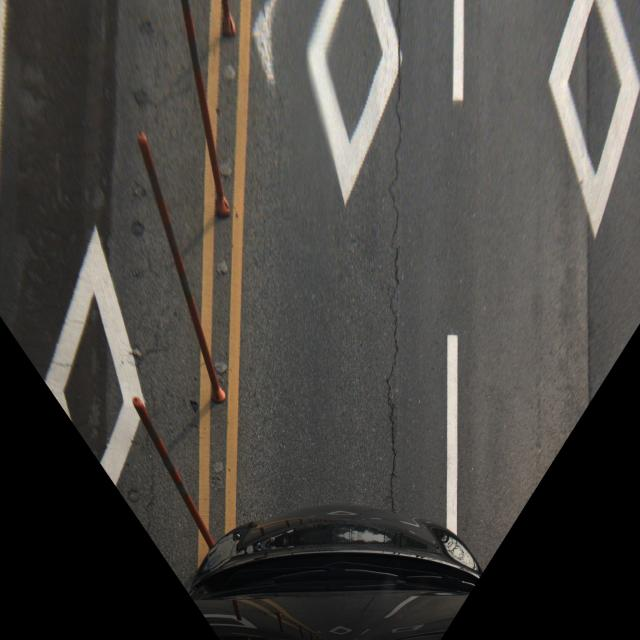diamond: (243, 0, 474, 216)
